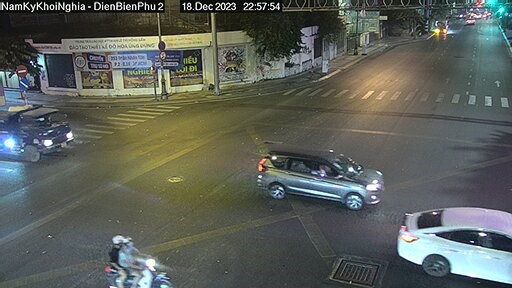car: (391, 207, 512, 282), (254, 145, 389, 212)
motorbike: (101, 236, 179, 288)
truck: (1, 103, 78, 167)
